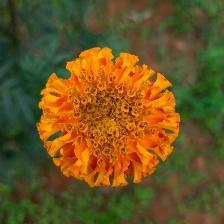marigold: (38, 45, 188, 194)
